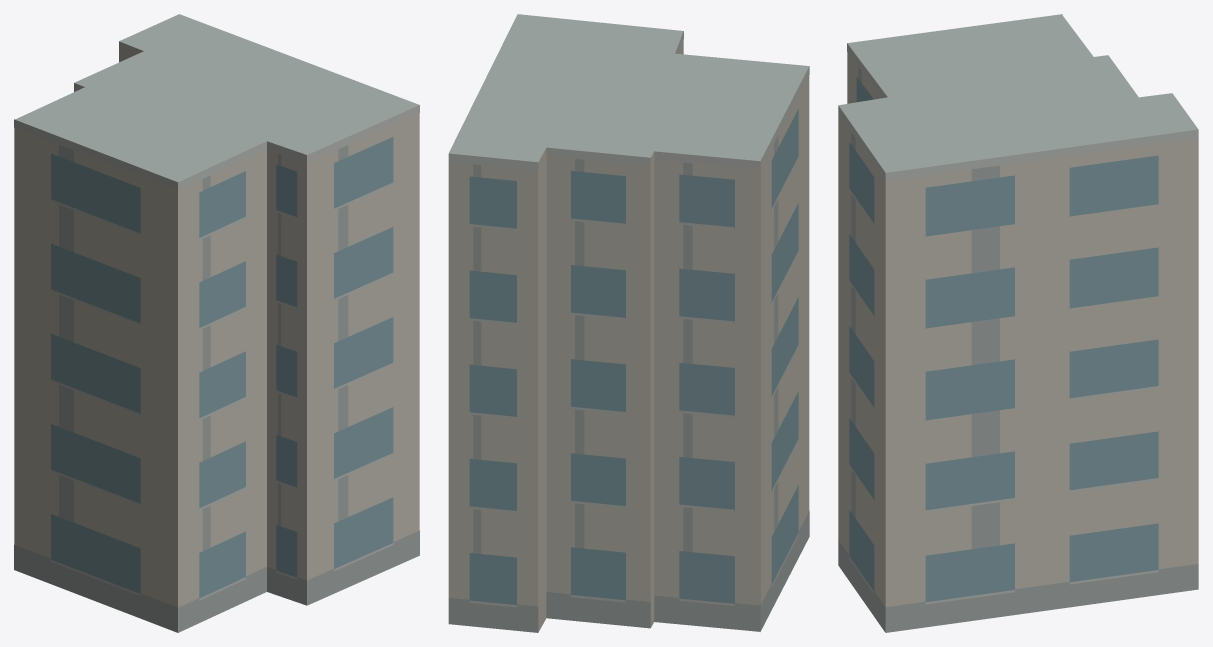
File: survey-upis-32612571.glb
The picture shows the model from 3 angles, left to right: view 1: azimuth 30°, elevation 25°; view 2: azimuth 150°, elevation 25°; view 3: azimuth 270°, elevation 25°; orthographic projection. The views are drawn at different scales.
Visible parts, largest first — view 1: survey-upis-32612571.tmp; view 2: survey-upis-32612571.tmp; view 3: survey-upis-32612571.tmp.
Part boxes in pixels (x1,y1,x2,y2): survey-upis-32612571.tmp: (14, 14, 419, 632); survey-upis-32612571.tmp: (448, 14, 809, 632); survey-upis-32612571.tmp: (838, 14, 1198, 632).
Bounding box in the file's own units: 9.94 × 13.4 × 9.52.
